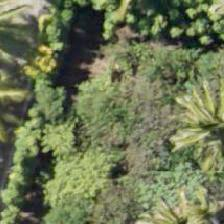Kelapa_Sawit: (172, 78, 223, 169), (139, 177, 223, 223)
